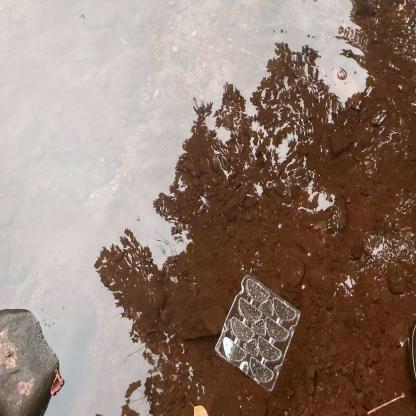Plastic: (210, 270, 306, 395)
